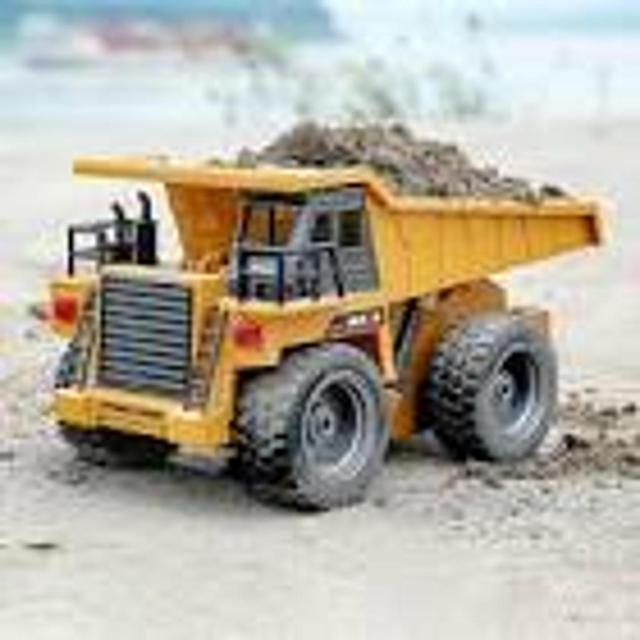dump_truck: (50, 99, 609, 518)
